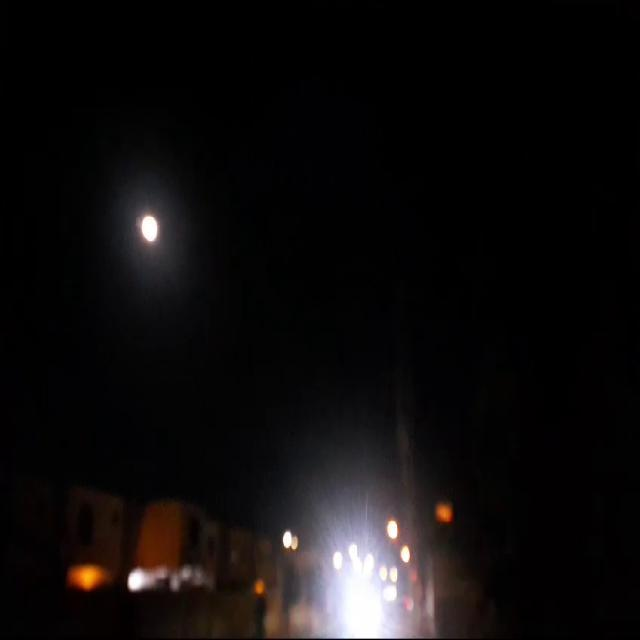moon: (141, 194, 162, 230)
